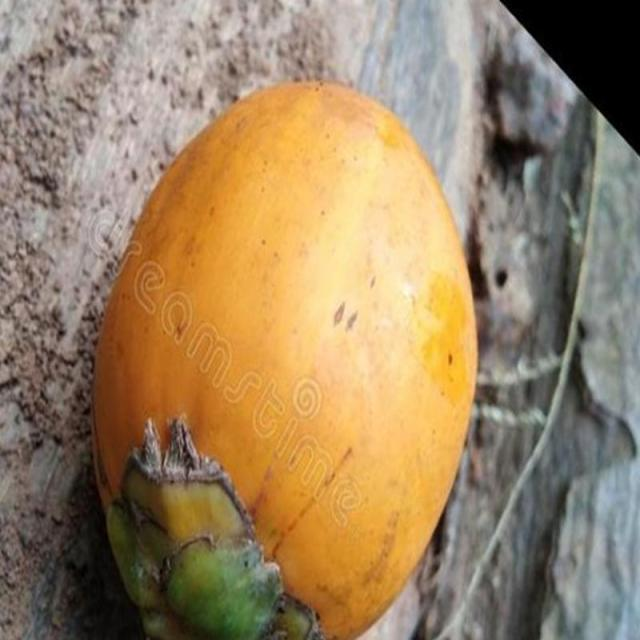good: (91, 81, 479, 639)
